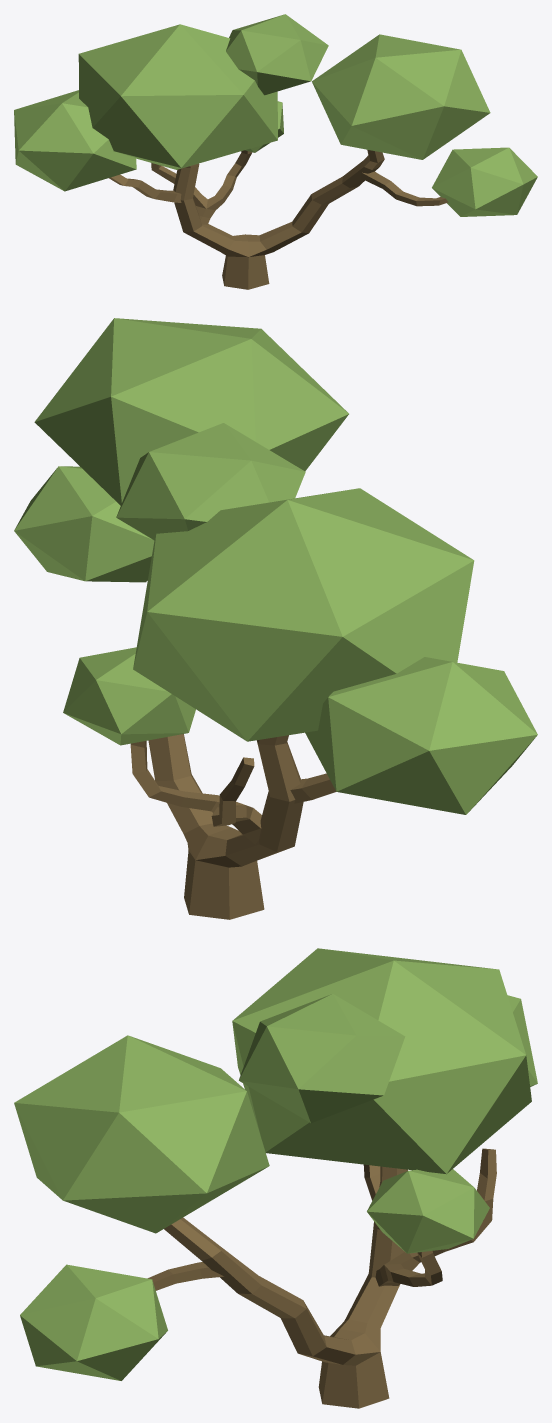
The picture shows the model from 3 angles, top to bottom: view 1: azimuth 30°, elevation 25°; view 2: azimuth 150°, elevation 25°; view 3: azimuth 270°, elevation 25°; orthographic projection. The views are drawn at different scales.
Visible parts, largest first — view 1: Tree_lp_11; view 2: Tree_lp_11; view 3: Tree_lp_11.
Boxes of the visible parts, x1,y1,x2,y2 form: Tree_lp_11: (14,14,537,289); Tree_lp_11: (14,318,537,919); Tree_lp_11: (14,948,537,1408).
Size of the model in its own units: 27.98 by 17.2 by 20.39.
